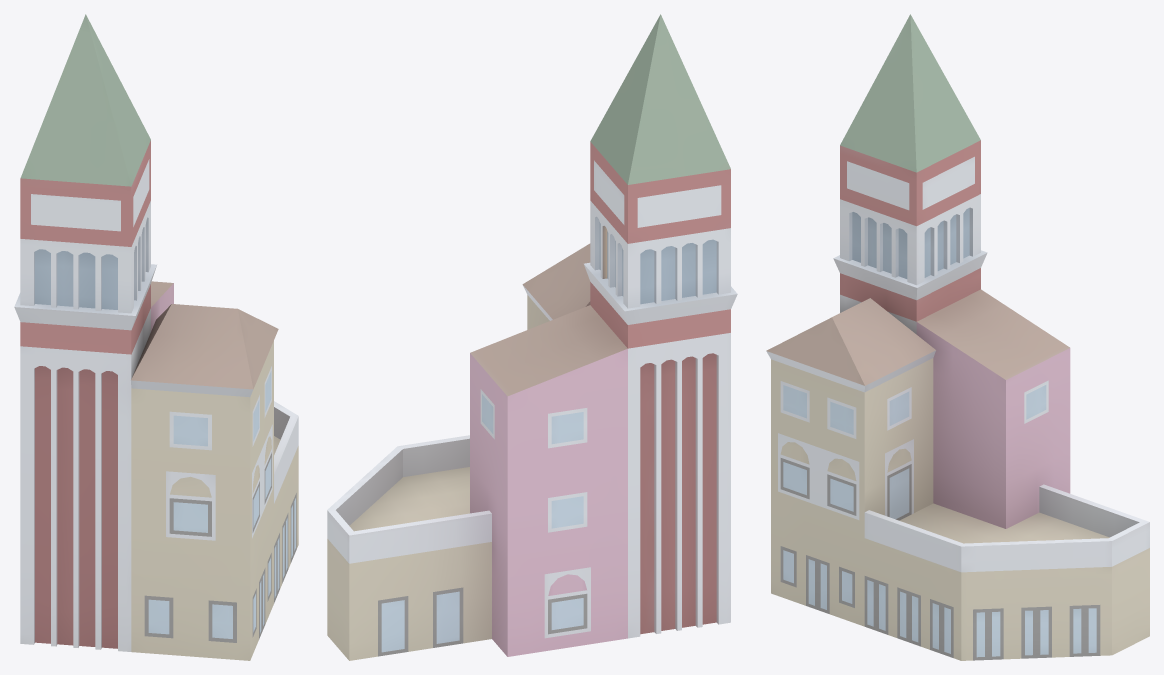
The picture shows the model from 3 angles, left to right: view 1: azimuth 30°, elevation 25°; view 2: azimuth 150°, elevation 25°; view 3: azimuth 270°, elevation 25°; orthographic projection. The views are drawn at different scales.
Visible parts, largest first — view 1: 70030076680654231_baked; view 2: 70030076680654231_baked; view 3: 70030076680654231_baked.
Boxes of the visible parts, bbox=[...] form: 70030076680654231_baked: bbox=[14, 14, 298, 660]; 70030076680654231_baked: bbox=[327, 14, 737, 660]; 70030076680654231_baked: bbox=[766, 14, 1149, 660].
Size of the model in its own units: 13.72 by 25.25 by 16.2.
1 material, 1 textured.
